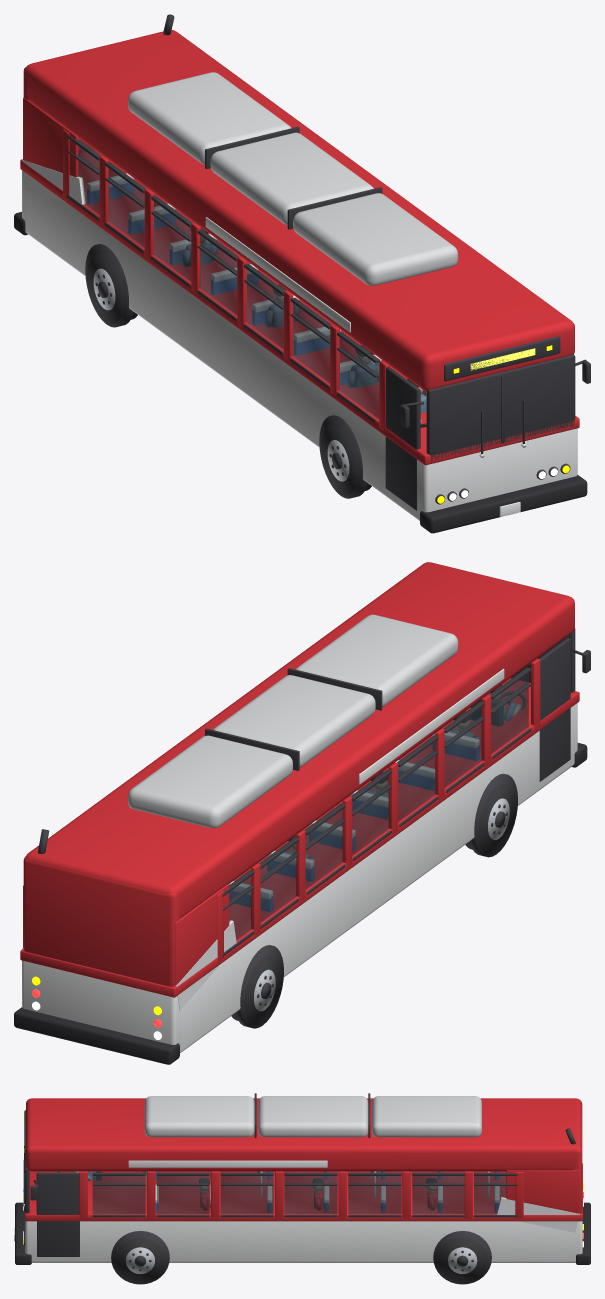
Rendered from dhaka-bus.glb.
3 renders of one model, top to bottom at view 1: azimuth 30°, elevation 25°; view 2: azimuth 150°, elevation 25°; view 3: azimuth 270°, elevation 25°, orthographic. The views are drawn at different scales.
Parts seen in each view (by area): view 1: Bus_Upper_Red_Crown, Bus_Lower_White_Hull, Bus_Red_Beltline, Windshield_Frame, Roof_Pod_0, Roof_Pod_1, Roof_Pod_2, DoorFrame_-1, Front_Bumper, Bus_Rear_Red_Quarter_-1, WinGlass_-1_0, WinGlass_-1_4 (+16 smaller); view 2: Bus_Upper_Red_Crown, Bus_Lower_White_Hull, Bus_Rear_Wall_Red, Bus_Red_Beltline, Roof_Pod_2, Roof_Pod_1, Roof_Pod_0, Bus_Rear_Wall_White, DoorFrame_-1, Rear_Bumper, Bus_Rear_Red_Quarter_-1, WinGlass_-1_1 (+21 smaller); view 3: Bus_Upper_Red_Crown, Bus_Lower_White_Hull, Bus_Red_Beltline, Roof_Pod_0, Roof_Pod_1, Roof_Pod_2, DoorFrame_1, Bus_Rear_Red_Quarter_1, WinGlass_1_3, WinGlass_1_4, WinGlass_1_0, WinGlass_1_1 (+22 smaller).
Part boxes in pixels (left/top/right/bottom): Bus_Upper_Red_Crown: left=25, top=30, right=574, bottom=391; Bus_Lower_White_Hull: left=22, top=171, right=577, bottom=520; Bus_Red_Beltline: left=20, top=150, right=579, bottom=465; Windshield_Frame: left=426, top=354, right=575, bottom=460; Roof_Pod_0: left=293, top=193, right=458, bottom=285; Roof_Pod_1: left=210, top=132, right=373, bottom=224; Roof_Pod_2: left=128, top=72, right=291, bottom=164; DoorFrame_-1: left=385, top=366, right=420, bottom=510; Front_Bumper: left=420, top=475, right=587, bottom=533; Bus_Rear_Red_Quarter_-1: left=23, top=97, right=80, bottom=177; WinGlass_-1_0: left=339, top=338, right=379, bottom=418; WinGlass_-1_4: left=154, top=201, right=191, bottom=281; Bus_Upper_Red_Crown: left=25, top=562, right=574, bottom=918; Bus_Lower_White_Hull: left=176, top=703, right=577, bottom=1052; Bus_Rear_Wall_Red: left=23, top=857, right=180, bottom=986; Bus_Red_Beltline: left=20, top=678, right=579, bottom=997; Roof_Pod_2: left=128, top=735, right=292, bottom=828; Roof_Pod_1: left=213, top=675, right=375, bottom=766; Roof_Pod_0: left=295, top=614, right=458, bottom=706; Bus_Rear_Wall_White: left=22, top=960, right=180, bottom=1051; DoorFrame_-1: left=539, top=638, right=570, bottom=781; Rear_Bumper: left=14, top=1007, right=179, bottom=1064; Bus_Rear_Red_Quarter_-1: left=175, top=884, right=229, bottom=985; WinGlass_-1_1: left=444, top=707, right=481, bottom=787; Bus_Upper_Red_Crown: left=26, top=1098, right=581, bottom=1171; Bus_Lower_White_Hull: left=25, top=1221, right=579, bottom=1262; Bus_Red_Beltline: left=25, top=1163, right=582, bottom=1221; Roof_Pod_0: left=144, top=1096, right=254, bottom=1137; Roof_Pod_1: left=258, top=1096, right=368, bottom=1137; Roof_Pod_2: left=372, top=1096, right=481, bottom=1137; DoorFrame_1: left=36, top=1172, right=79, bottom=1256; Bus_Rear_Red_Quarter_1: left=506, top=1170, right=579, bottom=1213; WinGlass_1_3: left=284, top=1176, right=337, bottom=1213; WinGlass_1_4: left=348, top=1176, right=401, bottom=1213; WinGlass_1_0: left=92, top=1176, right=145, bottom=1213; WinGlass_1_1: left=156, top=1176, right=209, bottom=1213.
Size of the model in its own units: 3.12 by 3.5 by 12.18.
